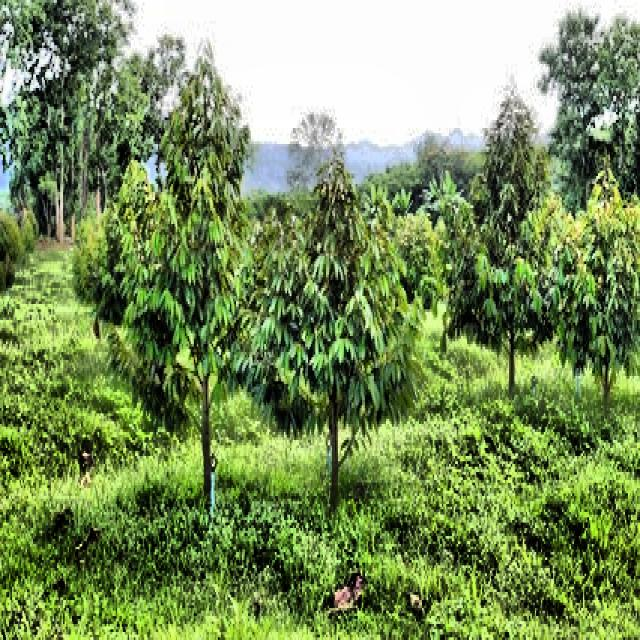arvore: (313, 292, 354, 538), (189, 255, 224, 526), (501, 262, 528, 416), (600, 292, 620, 424)
